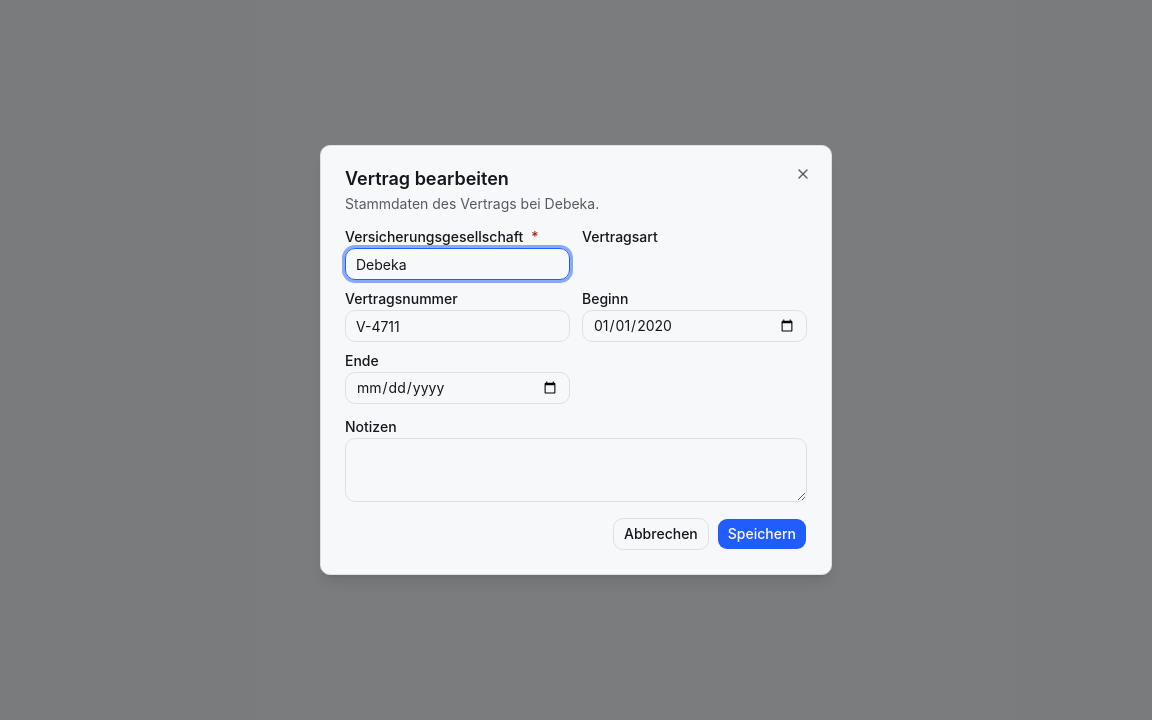
Test: ContractEditDialog › keeps the dialog open and shows the failure when saving fails
Click the button "Speichern": (762, 534) [717,518,807,550]
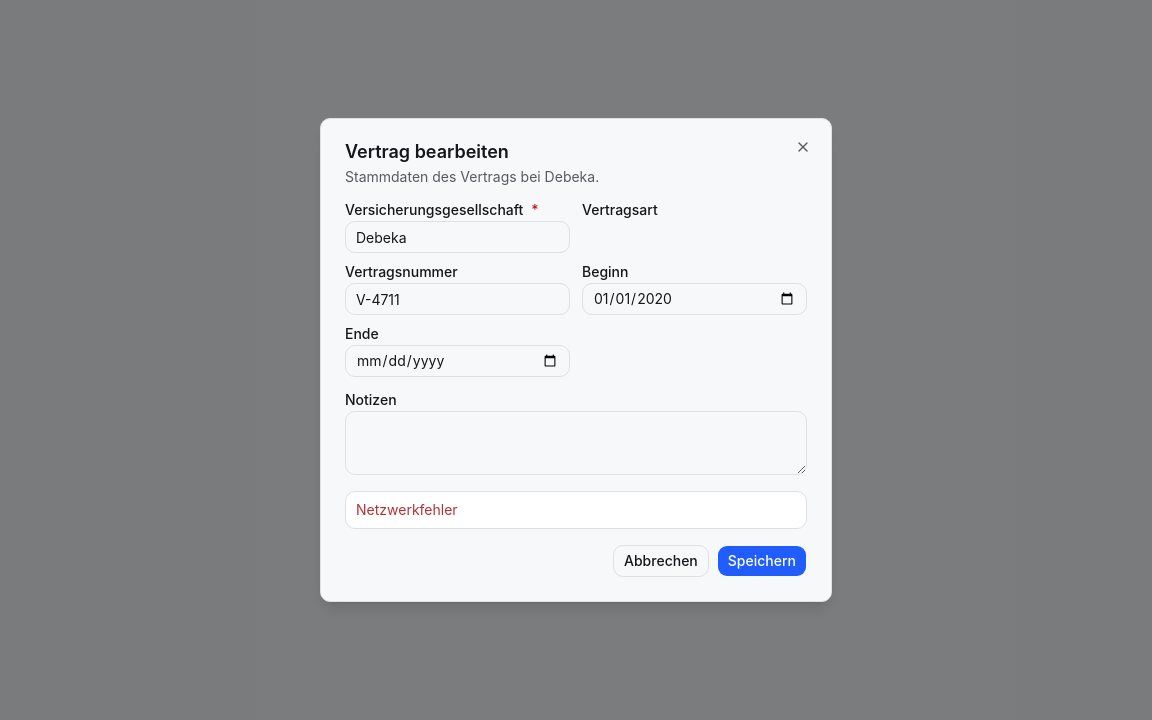
expect the dialog is shown: met, box [320,118,832,602]
expect the text "Netzwerkfehler" is shown: met, box [356,501,458,518]
